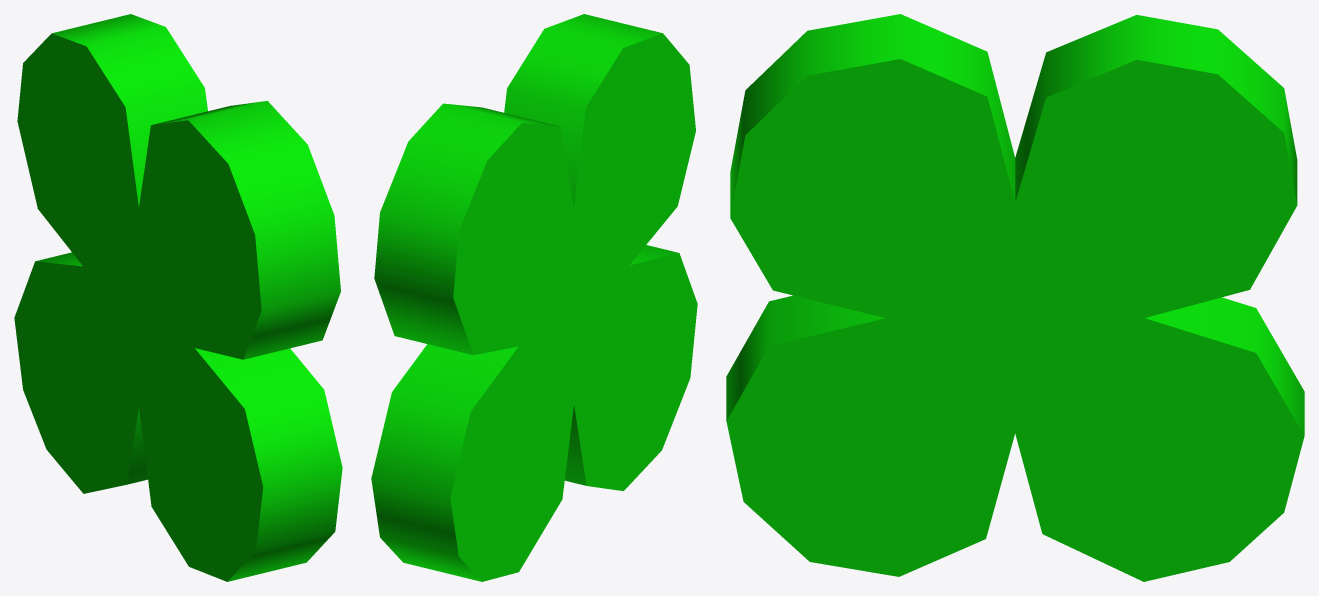
File: clover.fbx
3 renders of one model, left to right at view 1: azimuth 30°, elevation 25°; view 2: azimuth 150°, elevation 25°; view 3: azimuth 270°, elevation 25°, orthographic. The views are drawn at different scales.
Visible parts, largest first — view 1: pCylinder6; view 2: pCylinder6; view 3: pCylinder6.
Boxes of the visible parts, x1,y1,x2,y2 form: pCylinder6: (14,14,342,581); pCylinder6: (371,14,697,581); pCylinder6: (726,14,1304,581).
Bounding box in the file's own units: 0.3092 × 1.68 × 1.68.
